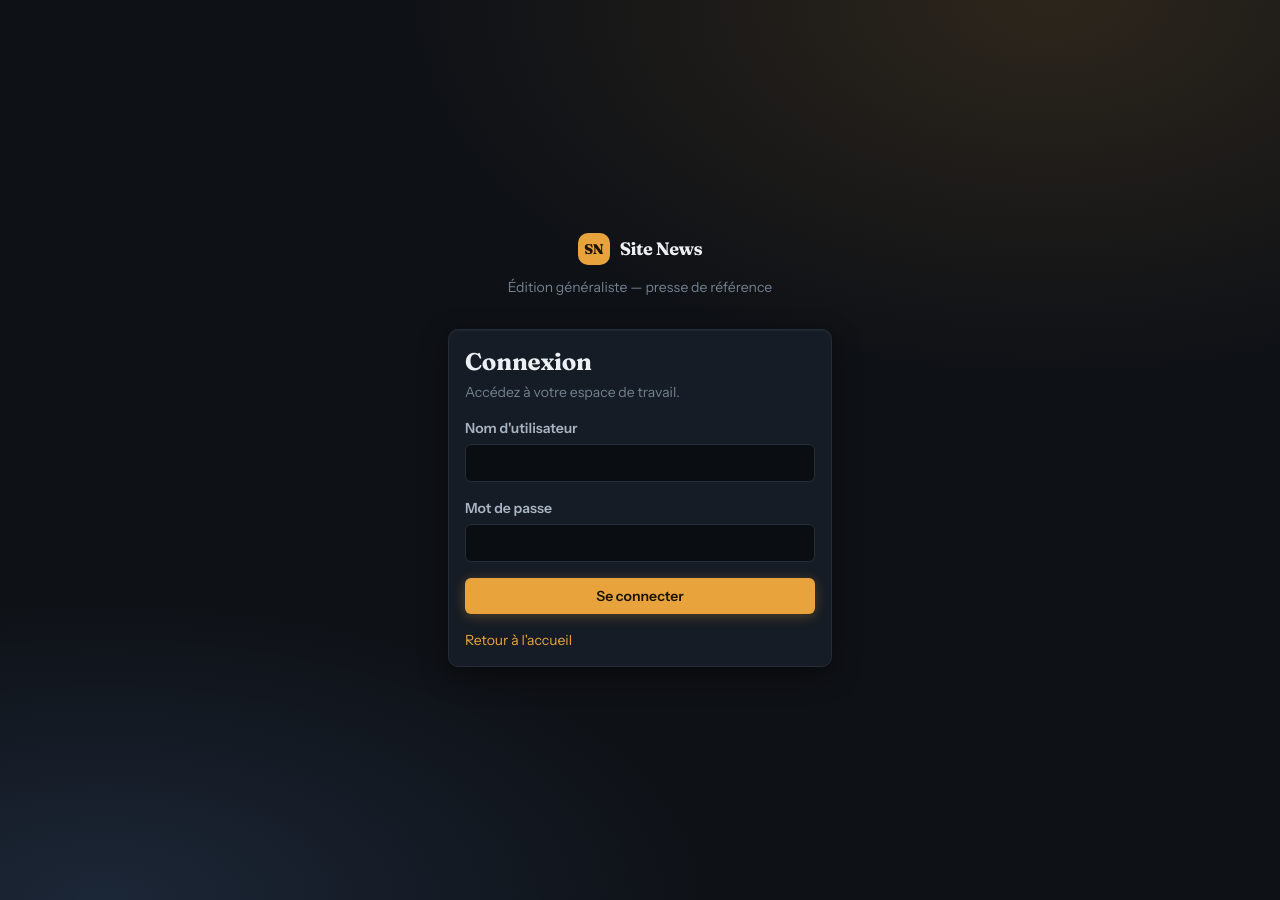
Test: LoginPage › affiche le message d erreur du backend en cas d echec
Type "bob" into the field labelled "Nom d'utilisateur" at (640,463), box top-left (465, 444), bottom-right (815, 482)
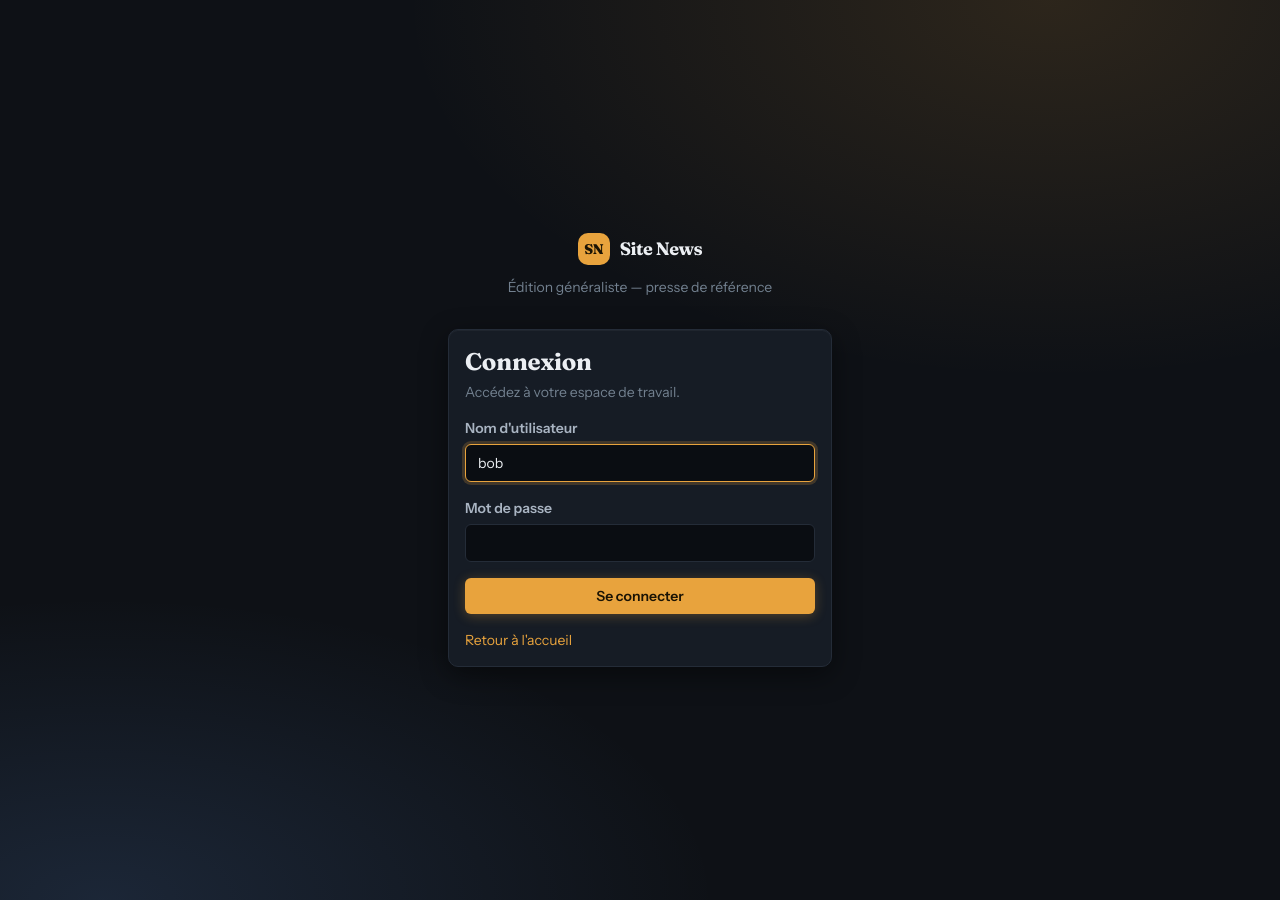
Type "wrong" into the password field labelled "Mot de passe" at (640,543), box top-left (465, 524), bottom-right (815, 562)
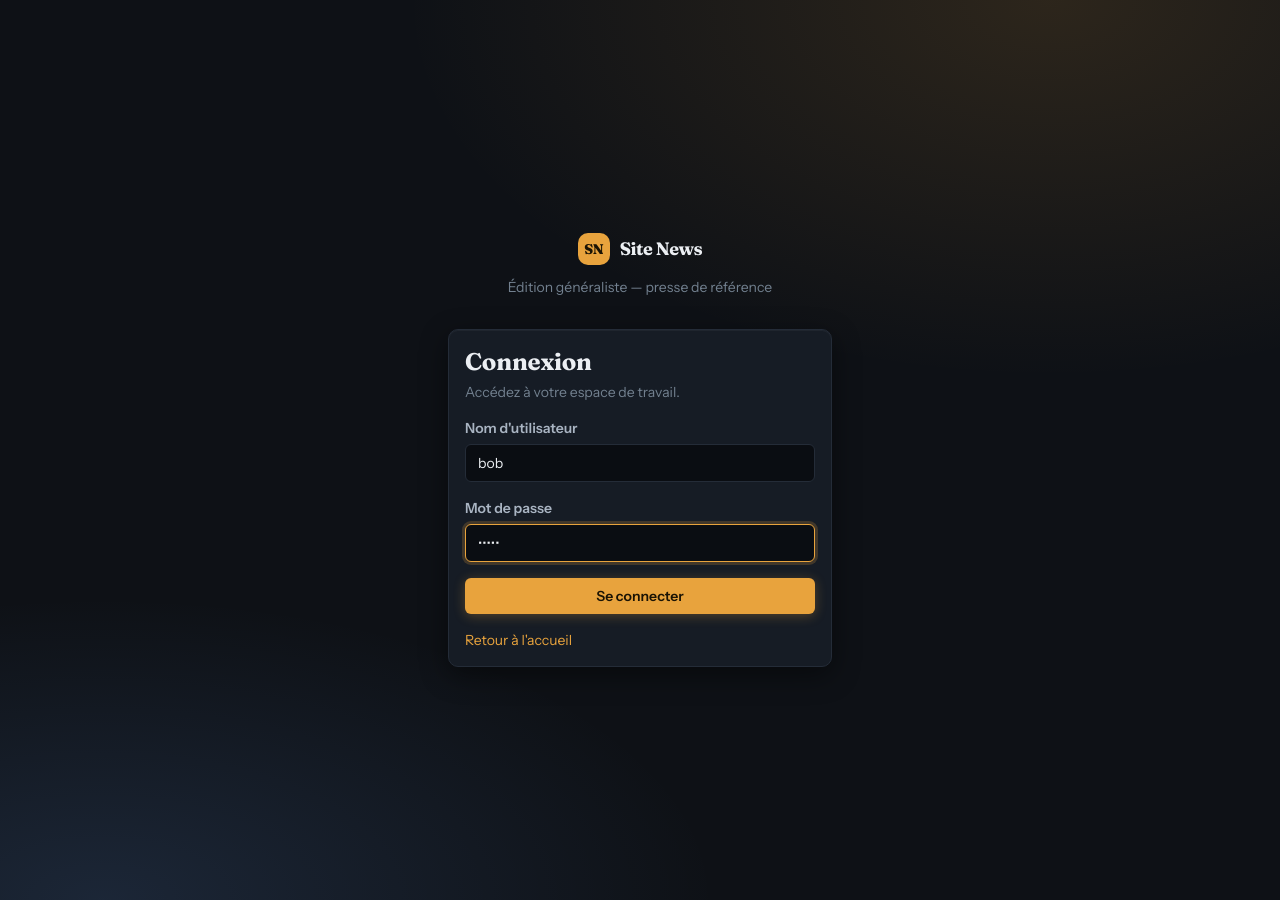
Click the button "Se connecter" at (640,596), box top-left (465, 578), bottom-right (815, 614)
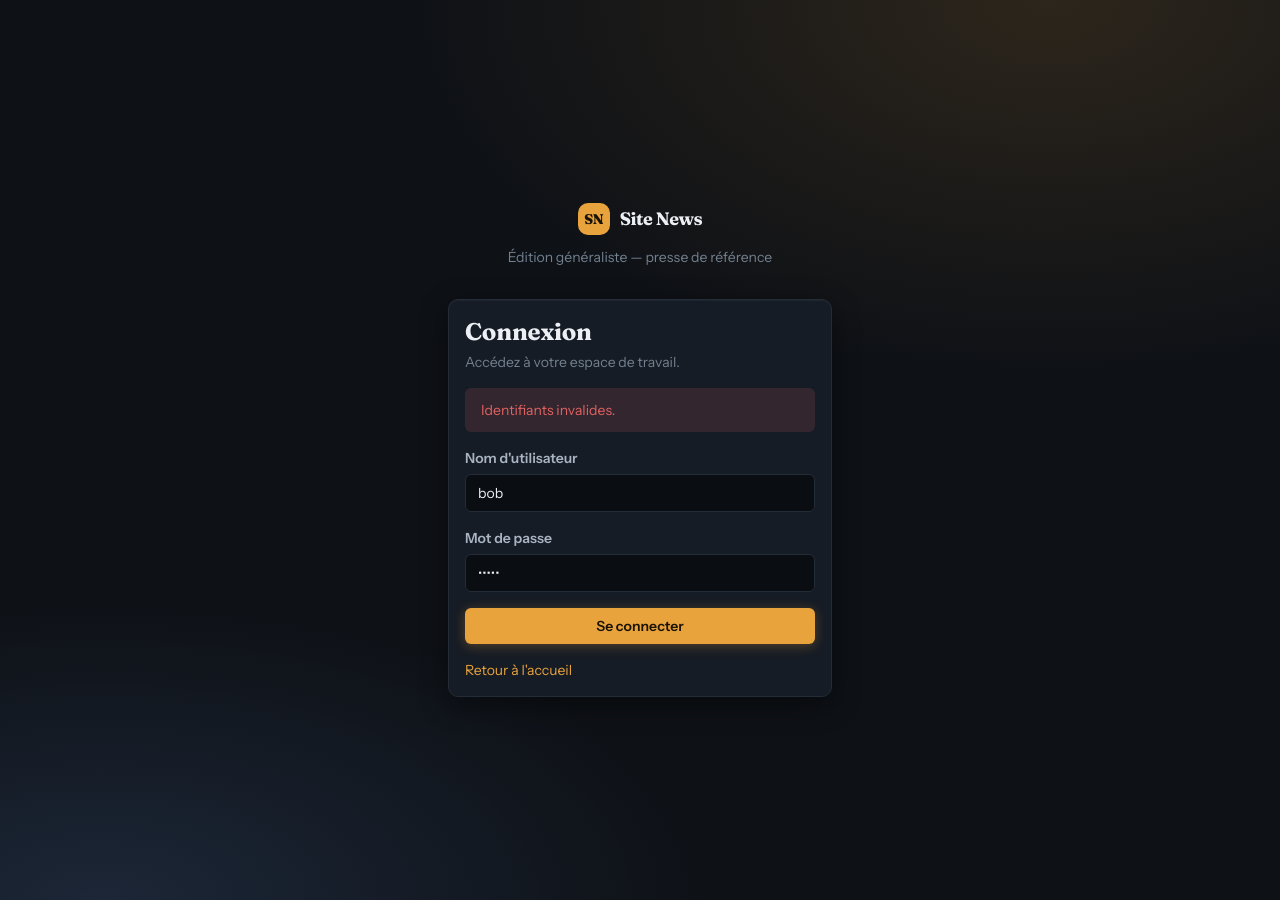
expect the message reads "Identifiants invalides.": met, box top-left (481, 401), bottom-right (615, 419)
